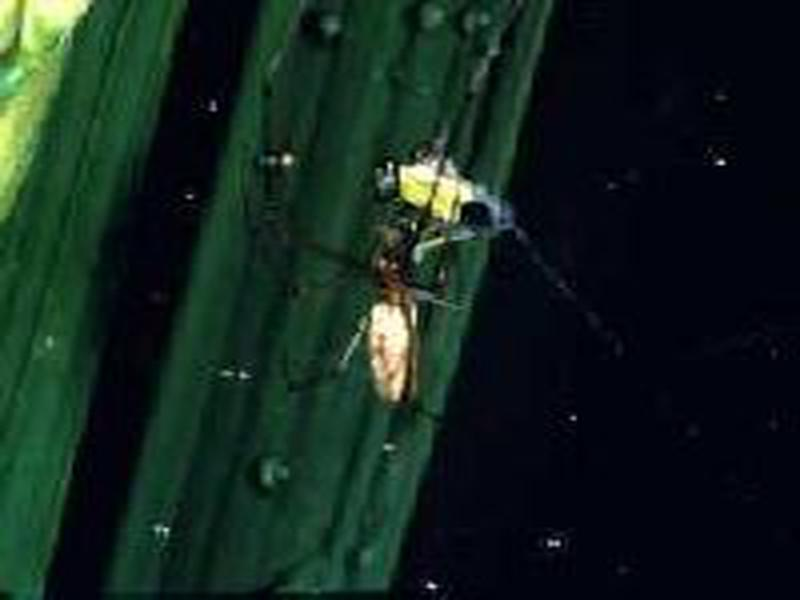White_backed_plant_hopper: (367, 149, 516, 267), (334, 284, 427, 418)
